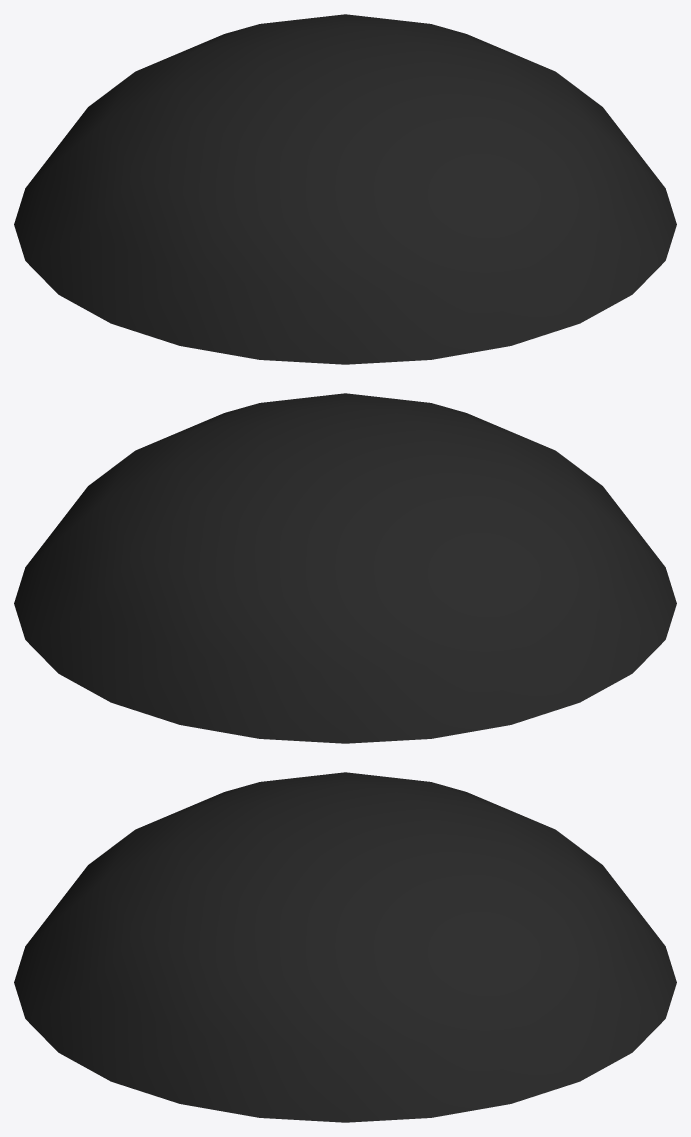
Rendered from Auriga_DrogueParachute_1_Cap.obj.
3 renders of one model, top to bottom at view 1: azimuth 30°, elevation 25°; view 2: azimuth 150°, elevation 25°; view 3: azimuth 270°, elevation 25°, orthographic.
Parts seen in each view (by area): view 1: Auriga_DrogueParachute_1_Cap; view 2: Auriga_DrogueParachute_1_Cap; view 3: Auriga_DrogueParachute_1_Cap.
Boxes of the visible parts, box(x1,y1,x2,y2) form: Auriga_DrogueParachute_1_Cap: box(14, 14, 676, 364); Auriga_DrogueParachute_1_Cap: box(14, 393, 676, 743); Auriga_DrogueParachute_1_Cap: box(14, 772, 676, 1122).
Bounding box in the file's own units: 0.3125 × 0.0875 × 0.3125.
